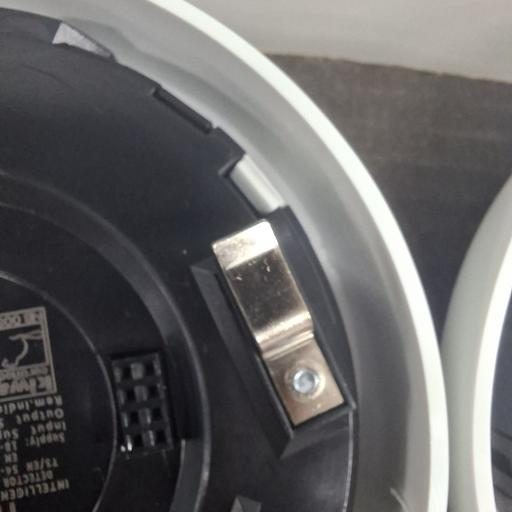yaysiz: (210, 218, 348, 429)
